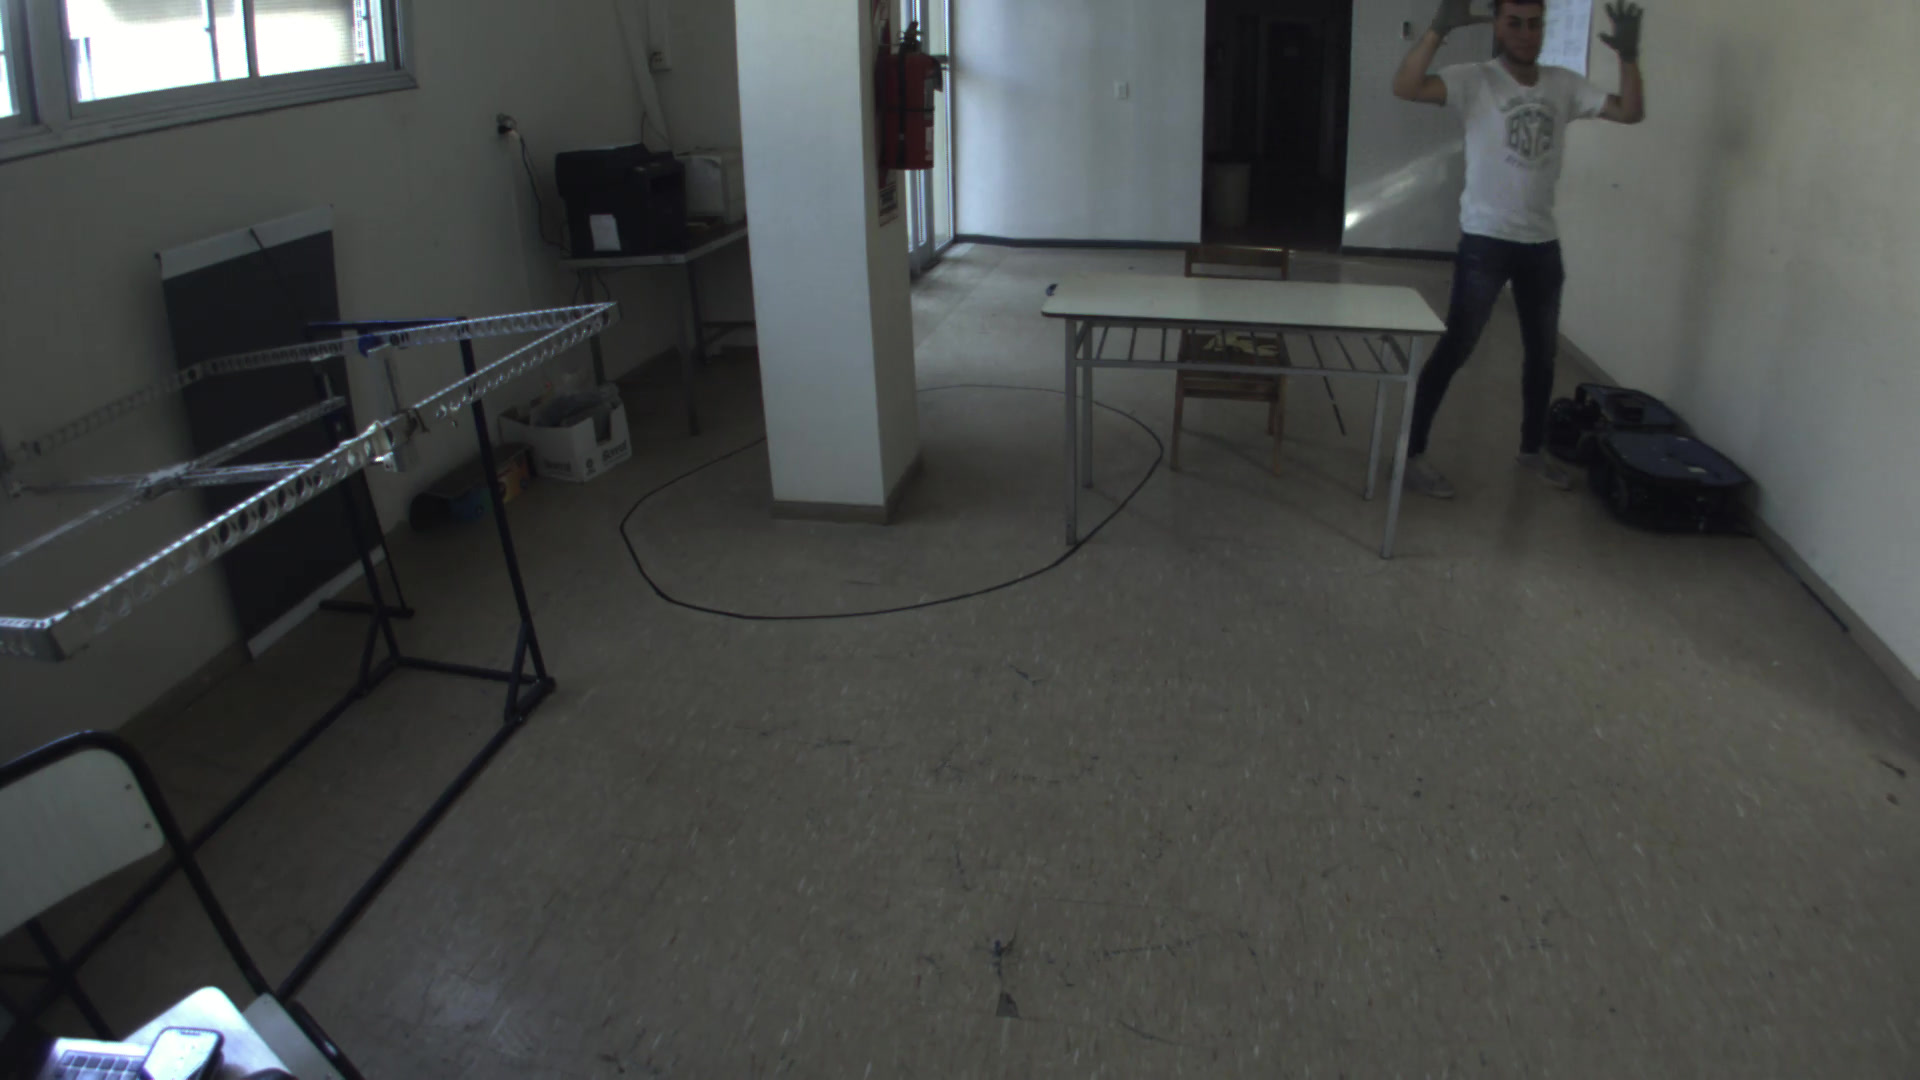hand: (1597, 1, 1655, 63)
